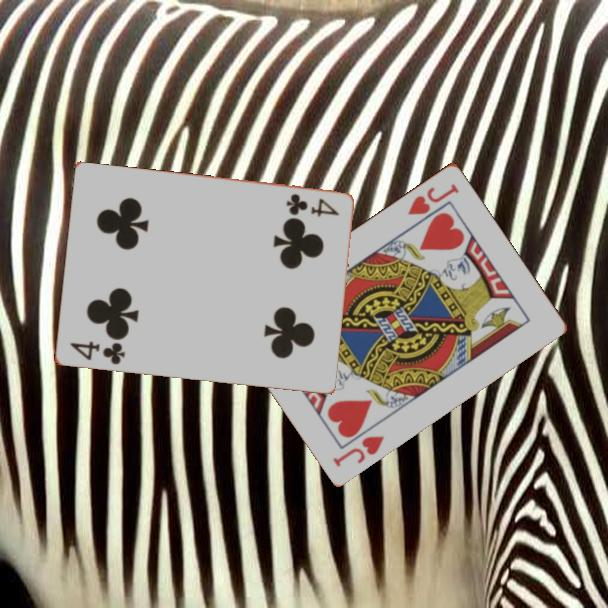c04: (66, 338, 128, 368), (282, 190, 341, 219)
h11: (404, 179, 462, 218), (329, 432, 388, 470)
